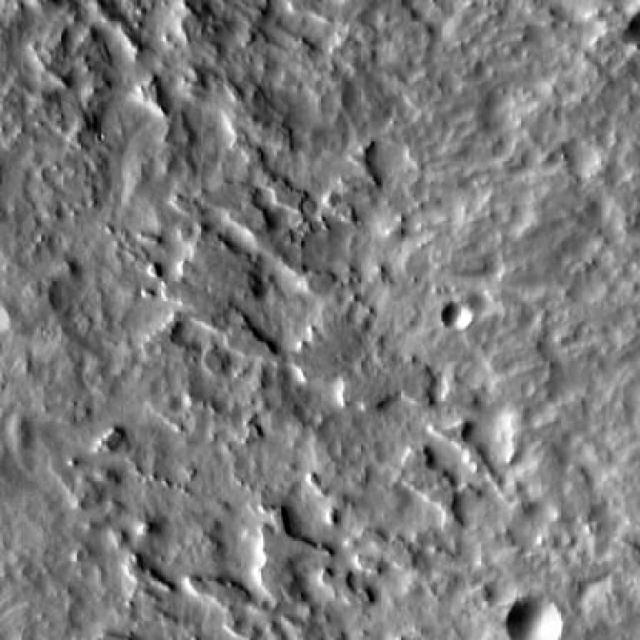crater: (508, 598, 564, 640), (444, 306, 476, 334)
